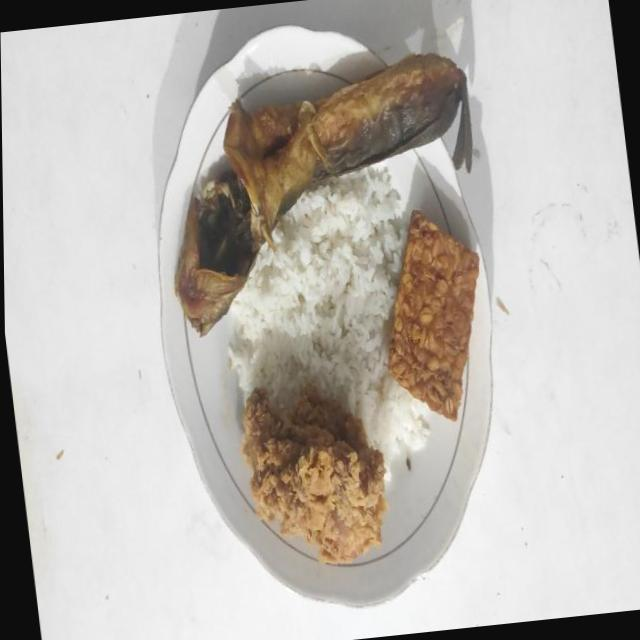nasi_putih: (228, 166, 429, 472)
tempe_goreng: (388, 210, 479, 421)
